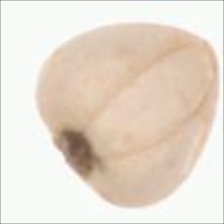L5: (88, 37, 218, 161), (51, 126, 105, 187)
L6: (33, 21, 218, 209)
